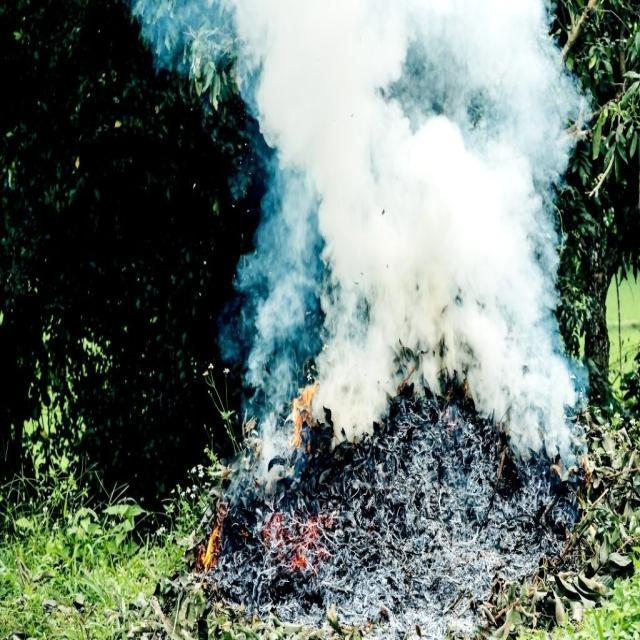Fire: (280, 370, 319, 474), (198, 518, 224, 578)
Smoke: (212, 0, 604, 435)
